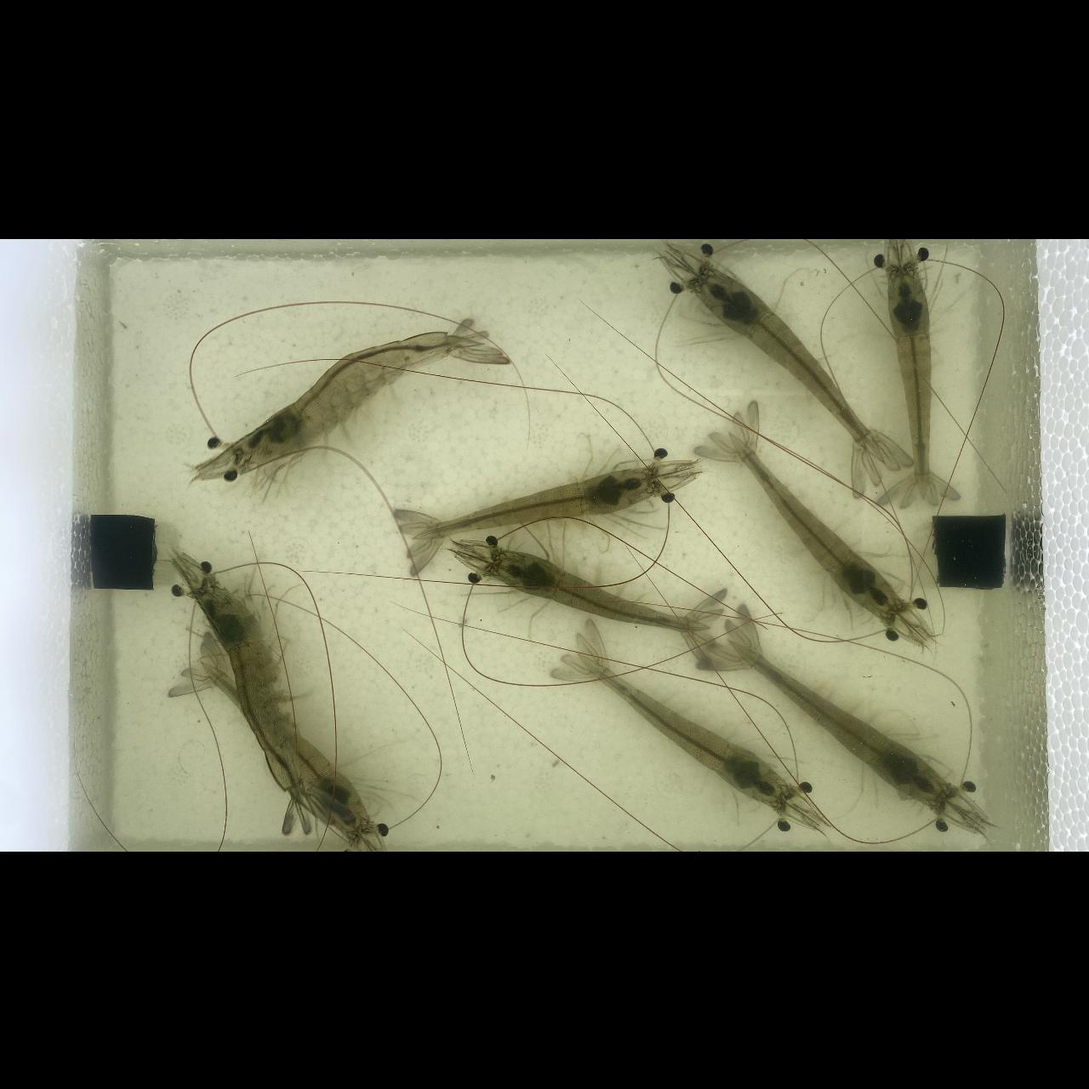box: (933, 514, 1007, 589), (90, 514, 157, 589)
top_shrimp: (726, 636, 948, 807), (700, 271, 886, 464), (573, 650, 789, 808), (241, 330, 484, 467), (731, 433, 901, 621), (202, 659, 367, 837), (207, 595, 316, 817), (408, 466, 657, 539), (492, 552, 711, 632), (888, 273, 932, 501)
